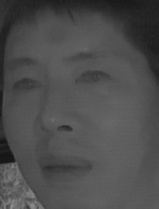eye: (75, 69, 112, 89), (10, 76, 44, 95)
mouth: (37, 151, 95, 185)
